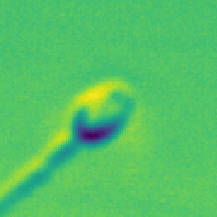normal: (1, 132, 74, 217)
